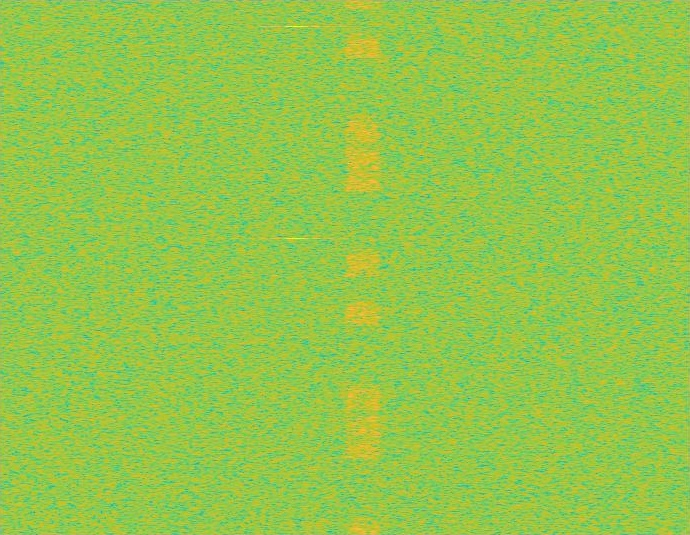LTE: (346, 0, 380, 534)
Radar: (289, 0, 303, 534)
